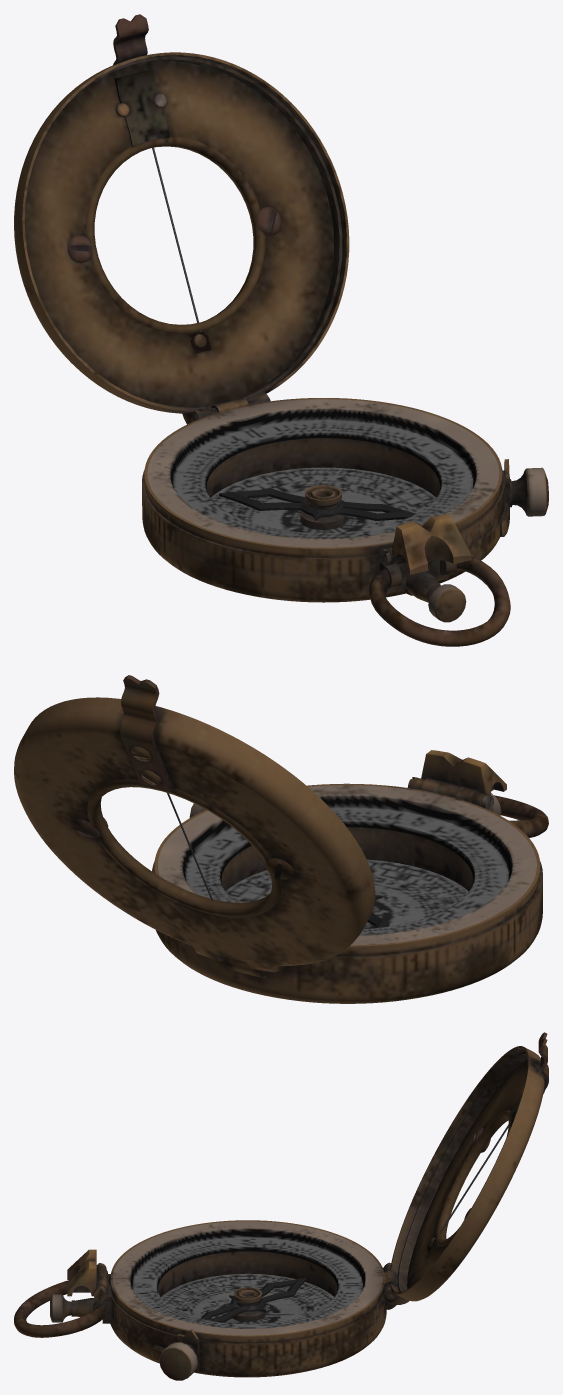
Rendered from seadogs_compass.b4b5c59de9.glb.
The picture shows the model from 3 angles, top to bottom: view 1: azimuth 30°, elevation 25°; view 2: azimuth 150°, elevation 25°; view 3: azimuth 270°, elevation 25°; orthographic projection. The views are drawn at different scales.
Parts seen in each view (by area): view 1: seadogs_compass_lid, seadogs_compass, seadogs_compass_needle; view 2: seadogs_compass_lid, seadogs_compass; view 3: seadogs_compass, seadogs_compass_lid, seadogs_compass_needle.
Boxes of the visible parts, x1,y1,x2,y2 form: seadogs_compass_lid: [14, 14, 349, 424]; seadogs_compass: [142, 398, 548, 646]; seadogs_compass_needle: [219, 488, 415, 520]; seadogs_compass_lid: [14, 675, 375, 972]; seadogs_compass: [152, 750, 548, 1003]; seadogs_compass: [14, 1220, 397, 1380]; seadogs_compass_lid: [382, 1032, 548, 1305]; seadogs_compass_needle: [201, 1278, 306, 1322].
Size of the model in its own units: 0.0813 by 0.0866 by 0.1441.
Materials: 1 (1 with a texture image).
